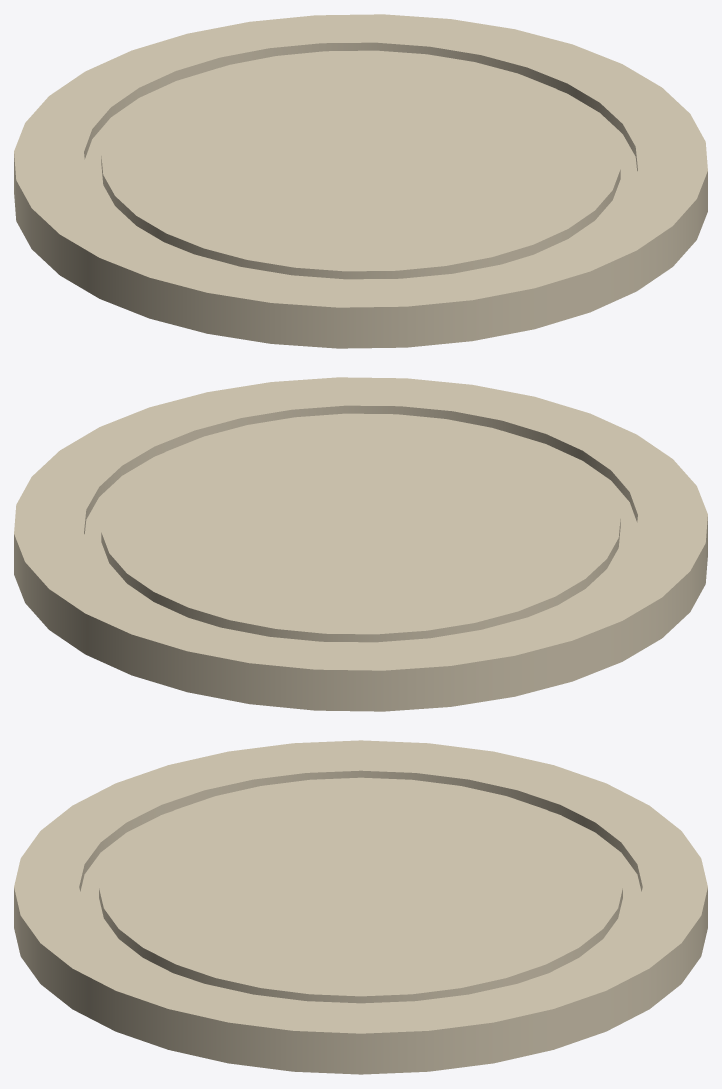
Rendered from CHIPS.fbx.
3 renders of one model, top to bottom at view 1: azimuth 30°, elevation 25°; view 2: azimuth 150°, elevation 25°; view 3: azimuth 270°, elevation 25°, orthographic.
Visible parts, largest first — view 1: Cylinder121; view 2: Cylinder121; view 3: Cylinder121.
Boxes of the visible parts, bbox=[...] form: Cylinder121: bbox=[14, 14, 707, 348]; Cylinder121: bbox=[14, 377, 707, 711]; Cylinder121: bbox=[14, 740, 707, 1074].
Size of the model in its own units: 2.54 by 0.1651 by 2.54.
